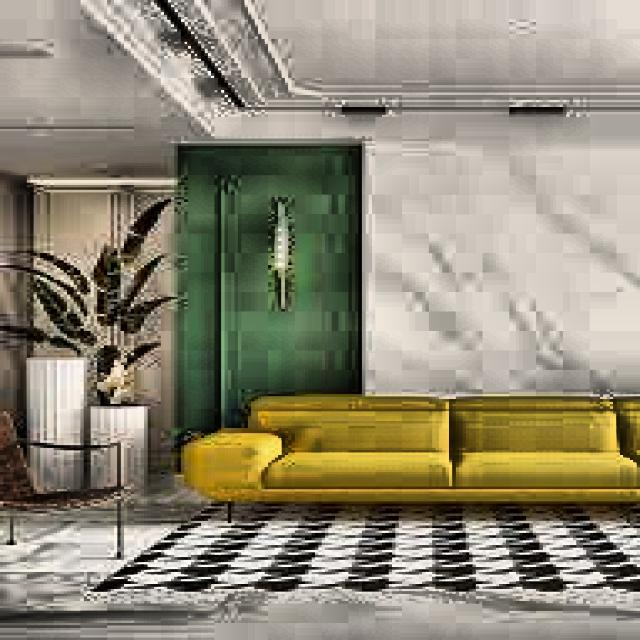sofa: (191, 399, 640, 506)
